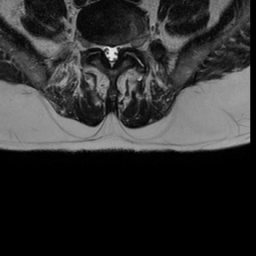CCS_normal: (108, 33, 114, 76)
LFS_stenosis: (121, 33, 128, 57)
LLS_stenosis: (114, 36, 121, 67)
RFS_stenosis: (94, 33, 101, 59)
RLS_normal: (101, 37, 108, 66)
